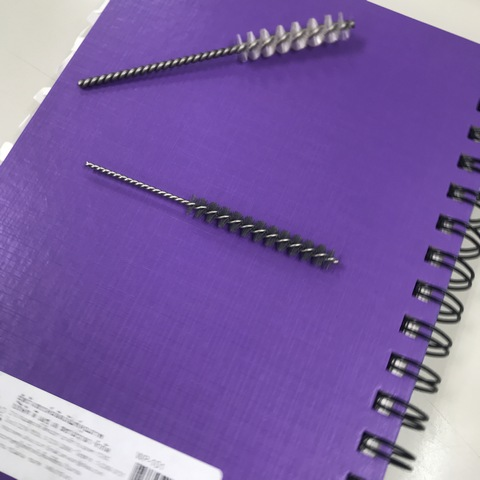Twist Brush-A: (82, 160, 340, 272)
Twist Brush-B: (73, 13, 360, 90)
